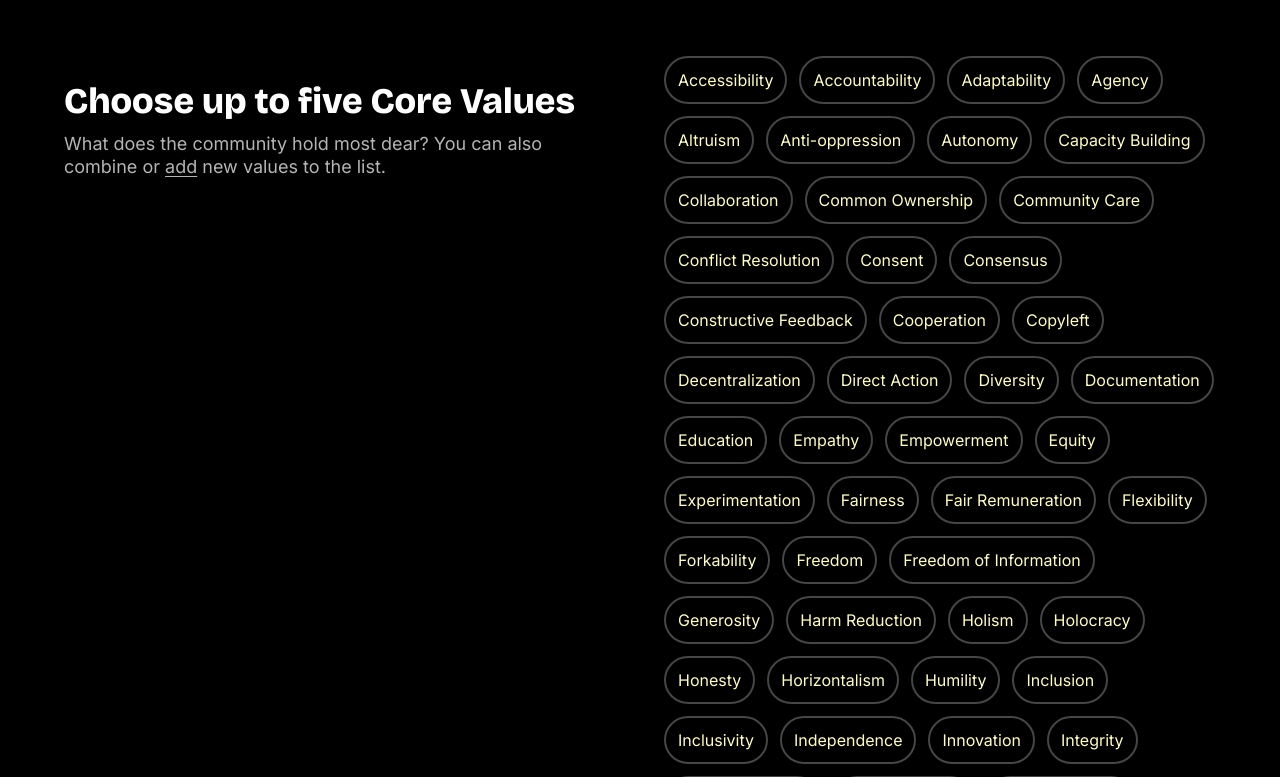
Test: CoreValuesSelectScreen › closes modal and reverts pending selection when Escape is pressed
Click the button "Accessibility": (726, 80) [664,56,787,104]
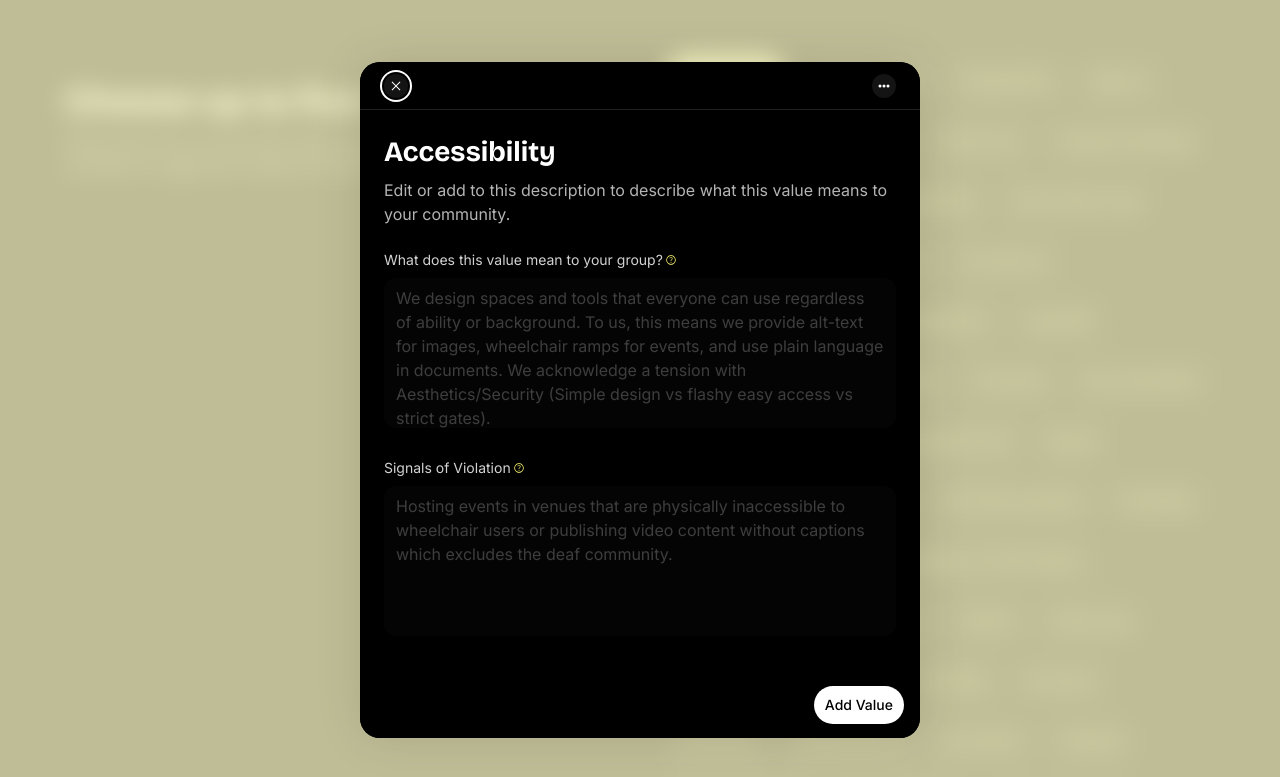
Now the dialog is shown, box [360,62,920,738]
Press Escape
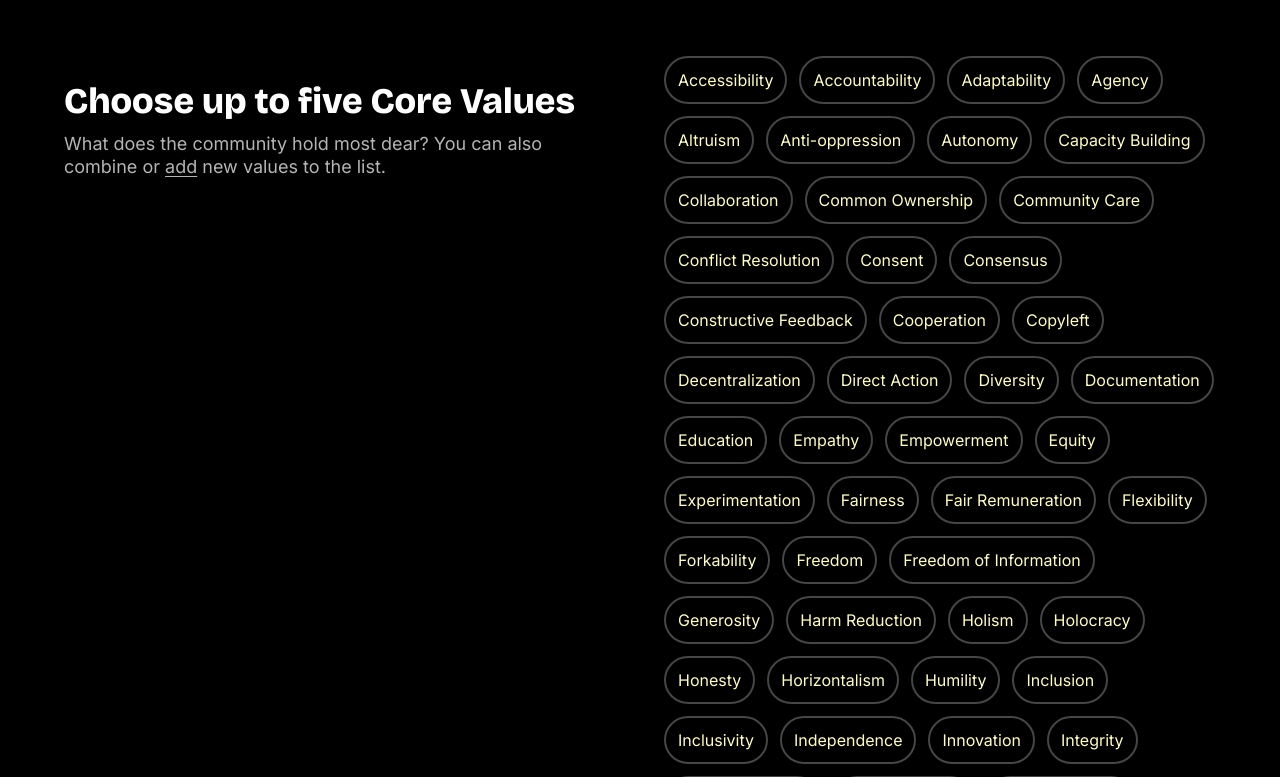
Now the dialog is gone
